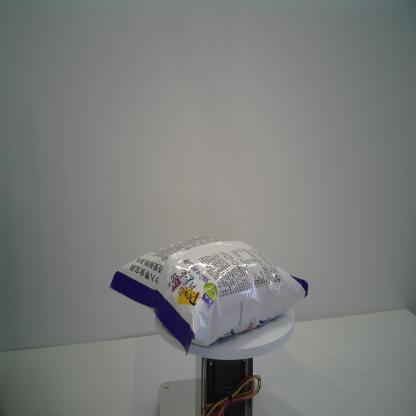Puffed Food: (110, 234, 308, 355)
